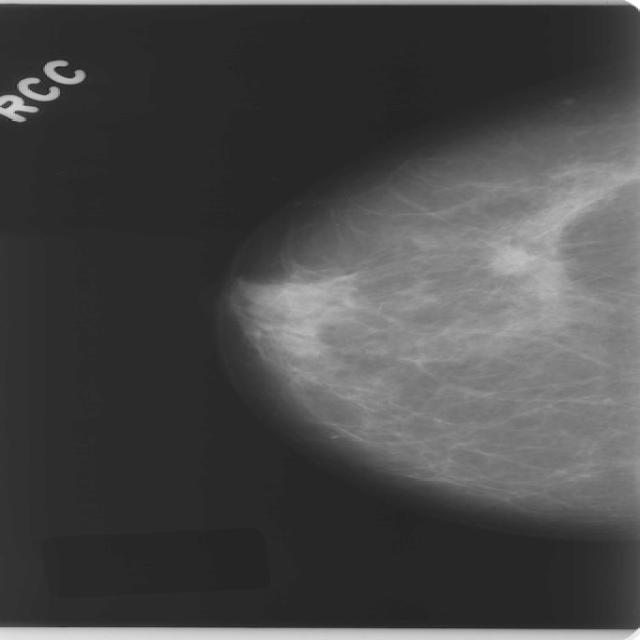tumour: (484, 243, 537, 277)
